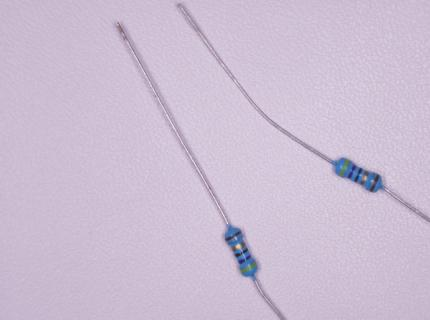Black band: (235, 248, 249, 258), (354, 168, 362, 183)
Brown band: (225, 230, 241, 242), (369, 174, 379, 192)
Gold band: (232, 241, 246, 251), (360, 170, 368, 186)
Violet band: (347, 165, 356, 179), (238, 255, 251, 264)
Yellow band: (241, 262, 257, 273), (339, 159, 349, 176)
